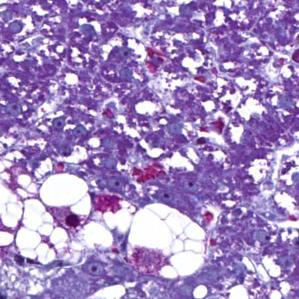ballooning: (9, 170, 97, 272), (123, 200, 213, 281)
